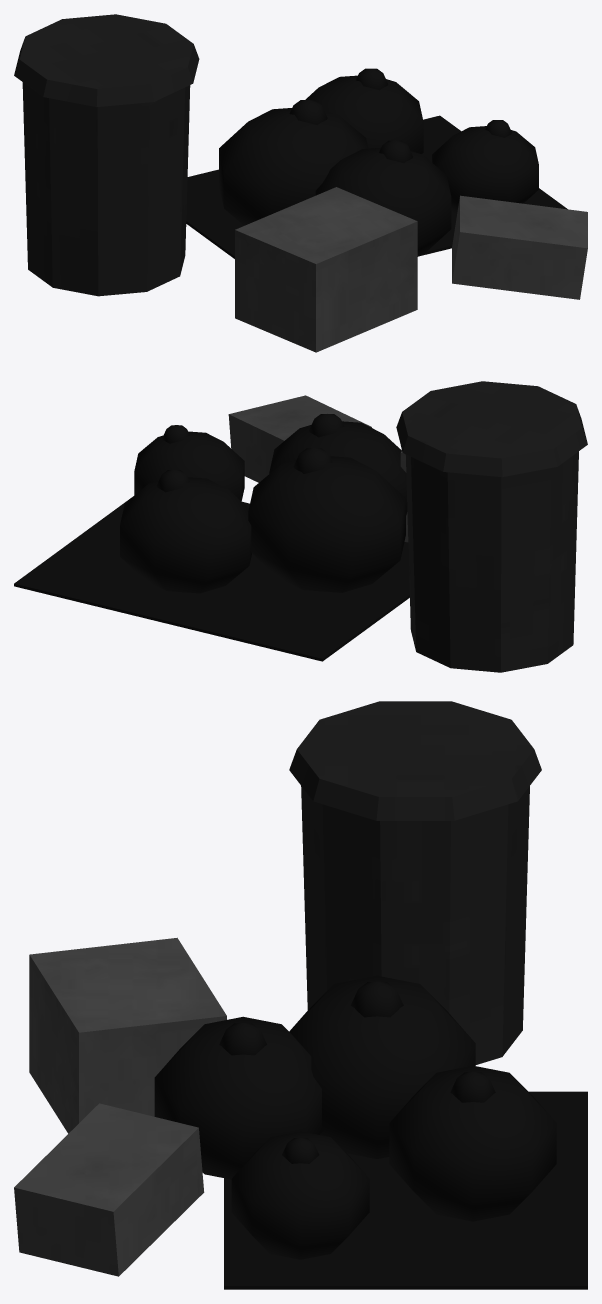
File: trash_pile.glb
3 renders of one model, top to bottom at view 1: azimuth 30°, elevation 25°; view 2: azimuth 150°, elevation 25°; view 3: azimuth 270°, elevation 25°, orthographic. The views are drawn at different scales.
Visible parts, largest first — view 1: trash_pile; view 2: trash_pile; view 3: trash_pile.
Boxes of the visible parts, x1,y1,x2,y2 form: trash_pile: (14,14,587,352); trash_pile: (14,381,587,672); trash_pile: (14,701,587,1289).
Size of the model in its own units: 1.91 by 0.8403 by 1.5.
4 materials, 4 textured.
